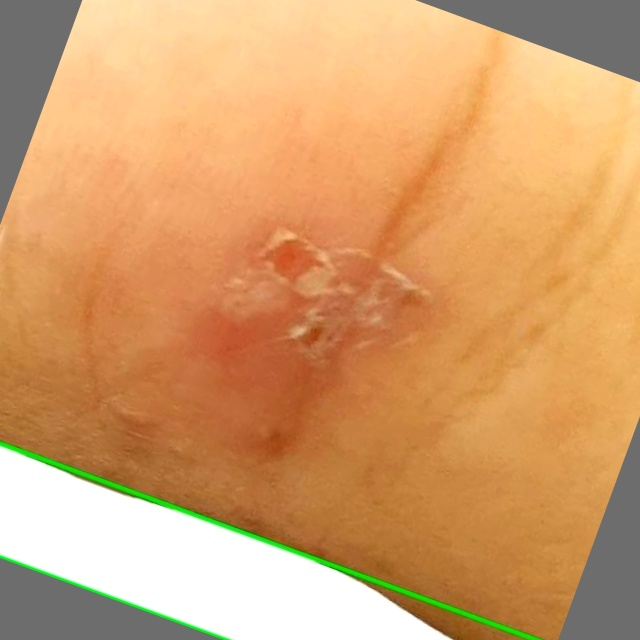Scabies: (0, 443, 535, 639)
